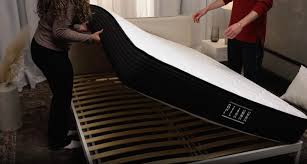bed-matress: (80, 1, 307, 144)
